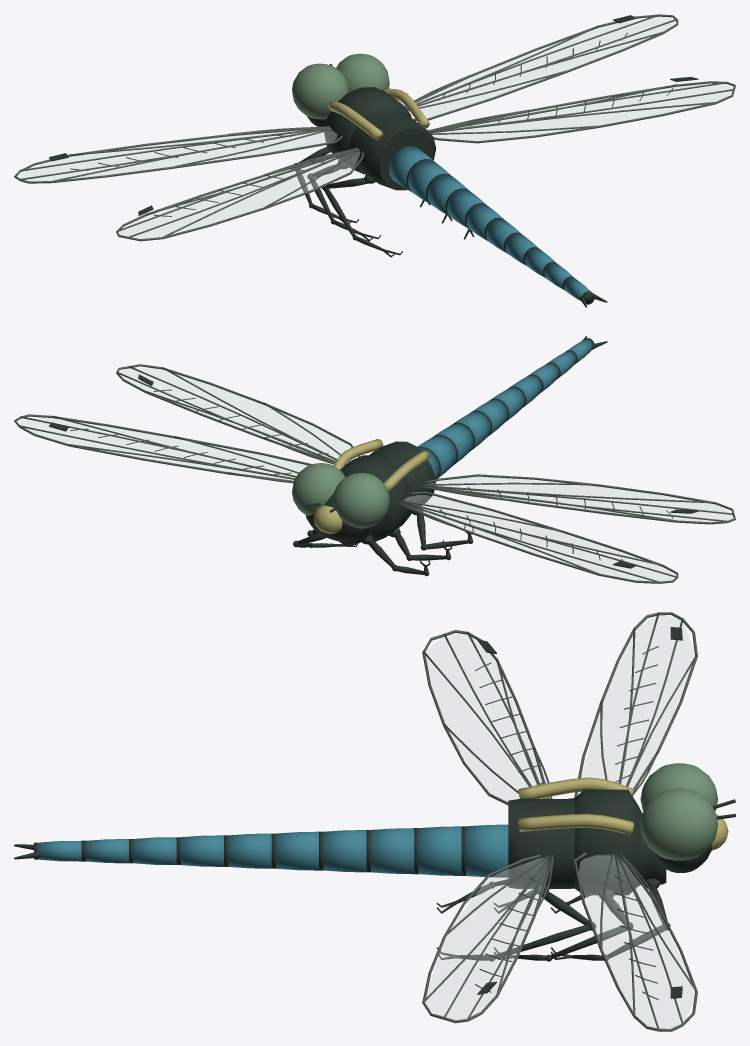
File: Dragonfly.fbx
3 views of the same model, one above another, from view 1: azimuth 30°, elevation 25°; view 2: azimuth 150°, elevation 25°; view 3: azimuth 270°, elevation 25° (orthographic). The views are drawn at different scales.
Parts seen in each view (by area): view 1: Material group Dragonfly_WingMembrane, Material group Dragonfly_WingVein, Material group Dragonfly_DarkCuticle, Material group Dragonfly_AbdomenBlue, Material group Dragonfly_Eye, Material group Dragonfly_ThoraxStripe; view 2: Material group Dragonfly_WingMembrane, Material group Dragonfly_WingVein, Material group Dragonfly_DarkCuticle, Material group Dragonfly_AbdomenBlue, Material group Dragonfly_Eye, Material group Dragonfly_ThoraxStripe; view 3: Material group Dragonfly_WingMembrane, Material group Dragonfly_DarkCuticle, Material group Dragonfly_AbdomenBlue, Material group Dragonfly_WingVein, Material group Dragonfly_Eye, Material group Dragonfly_ThoraxStripe.
Part boxes in pixels (x1,y1,x2,y2): Material group Dragonfly_WingMembrane: [20, 17, 731, 238]; Material group Dragonfly_WingVein: [14, 14, 735, 241]; Material group Dragonfly_DarkCuticle: [49, 15, 698, 307]; Material group Dragonfly_AbdomenBlue: [389, 146, 590, 300]; Material group Dragonfly_Eye: [292, 53, 389, 119]; Material group Dragonfly_ThoraxStripe: [328, 88, 429, 140]; Material group Dragonfly_WingMembrane: [20, 368, 732, 581]; Material group Dragonfly_WingVein: [14, 364, 735, 583]; Material group Dragonfly_DarkCuticle: [49, 336, 698, 576]; Material group Dragonfly_AbdomenBlue: [417, 339, 592, 479]; Material group Dragonfly_Eye: [292, 463, 389, 528]; Material group Dragonfly_ThoraxStripe: [313, 439, 429, 533]; Material group Dragonfly_WingMembrane: [427, 616, 693, 1028]; Material group Dragonfly_DarkCuticle: [14, 627, 735, 998]; Material group Dragonfly_AbdomenBlue: [38, 824, 508, 877]; Material group Dragonfly_WingVein: [422, 612, 697, 1031]; Material group Dragonfly_Eye: [640, 763, 717, 860]; Material group Dragonfly_ThoraxStripe: [518, 777, 728, 850].
Size of the model in its own units: 1 by 0.1727 by 0.7301.
